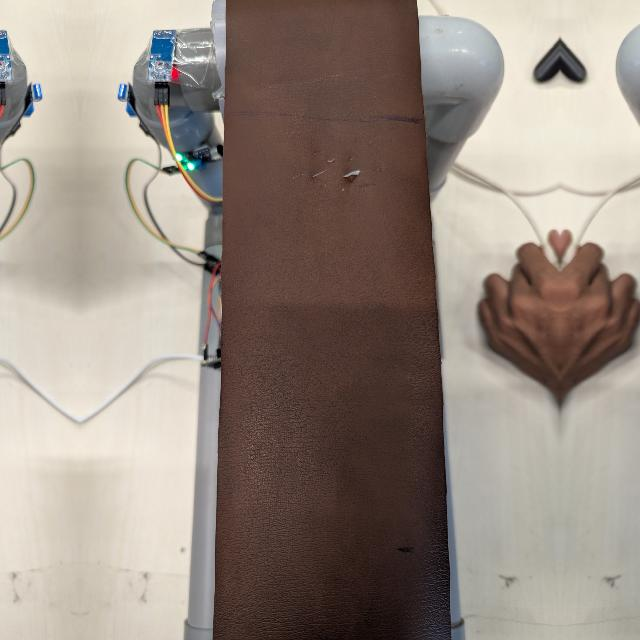belt_crack: (272, 127, 392, 201)
